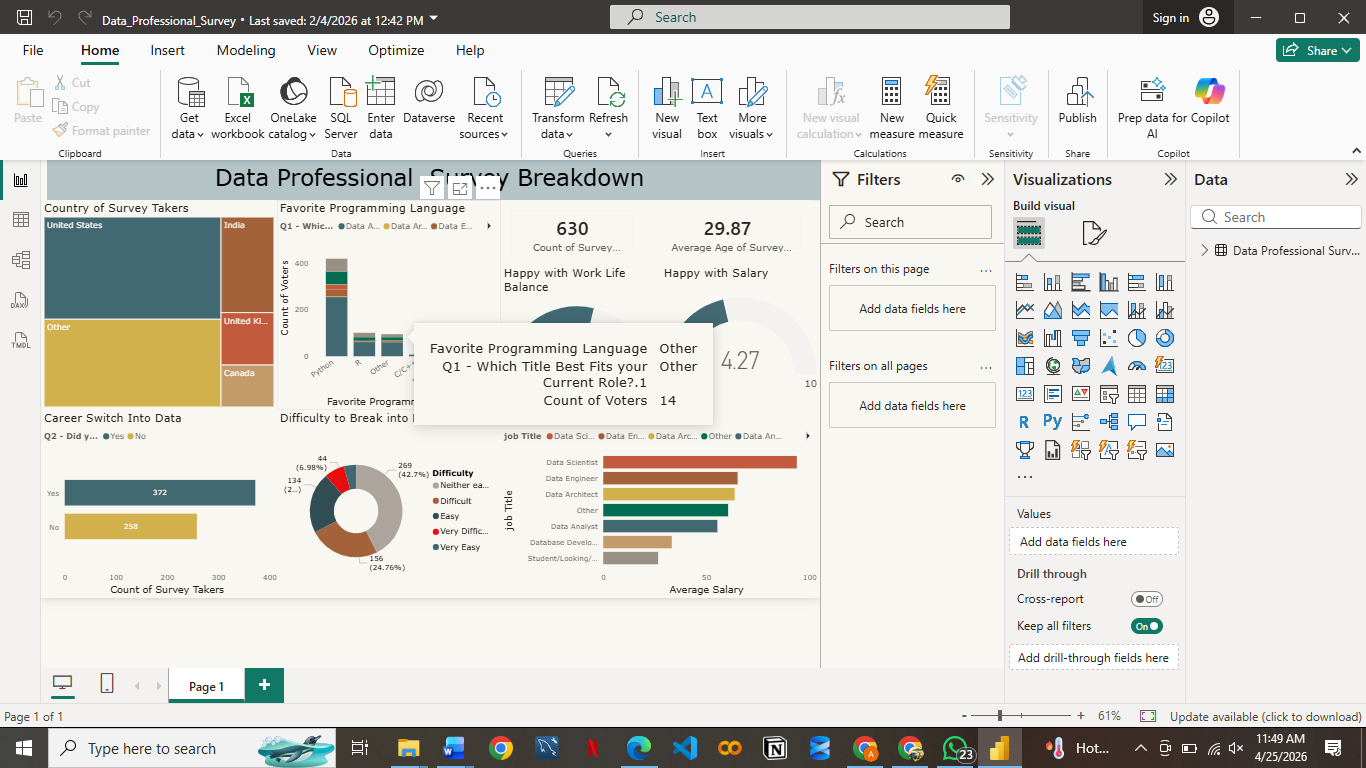

This screenshot's page, from the dashboard's own definition file:
{"tool":"powerbi","page":{"name":"Page 1","canvas":[1280,720],"ordinal":0},"visuals":[{"type":"textbox","box":[10.1,0,1269.9,65.5],"z":0},{"type":"cardVisual","fields":{"Data":["Count(Data Professional Survey.Unique ID)"]},"box":[755.8,65.7,233.3,106.8],"z":1000},{"type":"cardVisual","fields":{"Data":["Avg(Data Professional Survey.Q10 - Current Age)"]},"box":[989.2,65.7,276,106.8],"z":2000},{"type":"barChart","title":"Average Salary by Job Title","fields":{"Category":["Data Professional Survey.Q1 - Which Title Best Fits your Current Role?.1"],"Y":["Avg(Data Professional Survey.Average Salary)"],"Series":["Data Professional Survey.Q1 - Which Title Best Fits your Current Role?.1"]},"box":[755.8,410.8,524.2,308.9],"z":3000},{"type":"columnChart","title":"Favorite Programming Language","fields":{"Category":["Data Professional Survey.Q5 - Favorite Programming Language.1"],"Y":["Count(Data Professional Survey.Unique ID)"],"Series":["Data Professional Survey.Q1 - Which Title Best Fits your Current Role?.1"]},"box":[387.8,65.7,368.1,345.1],"z":4000},{"type":"gauge","title":"Happy with Work Life Balance","fields":{"Y":["Avg(Data Professional Survey.Q6 - How Happy are you in your Current Position with the following? (Work/Life Balance))"],"MinValue":["Min(Data Professional Survey.Q6 - How Happy are you in your Current Position with the following? (Work/Life Balance))1"],"MaxValue":["Max(Data Professional Survey.Q6 - How Happy are you in your Current Position with the following? (Work/Life Balance))2"]},"box":[755.8,172.5,249.8,238.3],"z":5000},{"type":"gauge","title":"Happy with Salary","fields":{"Y":["Avg(Data Professional Survey.Q6 - How Happy are you in your Current Position with the following? (Salary))"],"MinValue":["Min(Data Professional Survey.Q6 - How Happy are you in your Current Position with the following? (Salary))"],"MaxValue":["Max(Data Professional Survey.Q6 - How Happy are you in your Current Position with the following? (Salary))"]},"box":[1018.7,172.5,261.3,238.3],"z":6000},{"type":"donutChart","title":"Difficulty to Break into Data","fields":{"Category":["Data Professional Survey.Q7 - How difficult was it for you to break into Data?"],"Y":["CountNonNull(Data Professional Survey.Q7 - How difficult was it for you to break into Data?)"]},"box":[387.8,410.8,368.1,308.9],"z":7000},{"type":"barChart","title":"Career Switch Into Data","fields":{"Category":["Data Professional Survey.Q2 - Did you switch careers into Data?"],"Y":["Count(Data Professional Survey.Unique ID)"],"Series":["Data Professional Survey.Q2 - Did you switch careers into Data?"]},"box":[0,410.8,392.7,308.9],"z":8000},{"type":"treemap","title":"Country of Survey Takers","fields":{"Group":["Data Professional Survey.Q11 - Which Country do you live in?.1"],"Values":["CountNonNull(Data Professional Survey.Q11 - Which Country do you live in?.1)"]},"box":[0,65.7,387.8,345.1],"z":9000}]}

Visuals, with their boxes on the page's 1280x720 design canvas (x1, y1, x2, y2). These are canvas units, not pixel positions in the 1366x768 screenshot, which may show the page scaled, cropped or inside an application window:
textbox: {"x1": 10, "y1": 0, "x2": 1280, "y2": 66}
cardVisual - Count(Data Professional Survey.Unique ID): {"x1": 756, "y1": 66, "x2": 989, "y2": 172}
cardVisual - Avg(Data Professional Survey.Q10 - Current Age): {"x1": 989, "y1": 66, "x2": 1265, "y2": 172}
"Average Salary by Job Title" barChart: {"x1": 756, "y1": 411, "x2": 1280, "y2": 720}
"Favorite Programming Language" columnChart: {"x1": 388, "y1": 66, "x2": 756, "y2": 411}
"Happy with Work Life Balance" gauge: {"x1": 756, "y1": 172, "x2": 1006, "y2": 411}
"Happy with Salary" gauge: {"x1": 1019, "y1": 172, "x2": 1280, "y2": 411}
"Difficulty to Break into Data" donutChart: {"x1": 388, "y1": 411, "x2": 756, "y2": 720}
"Career Switch Into Data" barChart: {"x1": 0, "y1": 411, "x2": 393, "y2": 720}
"Country of Survey Takers" treemap: {"x1": 0, "y1": 66, "x2": 388, "y2": 411}
